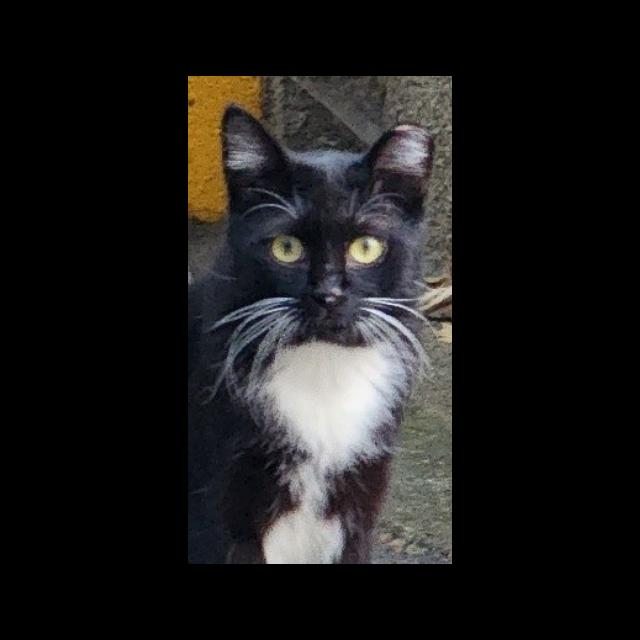animals: (210, 100, 443, 363)
